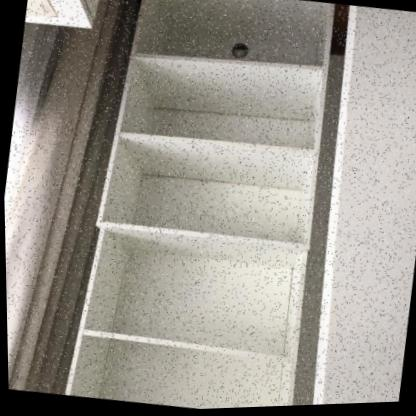Shelf: (52, 0, 351, 414)
